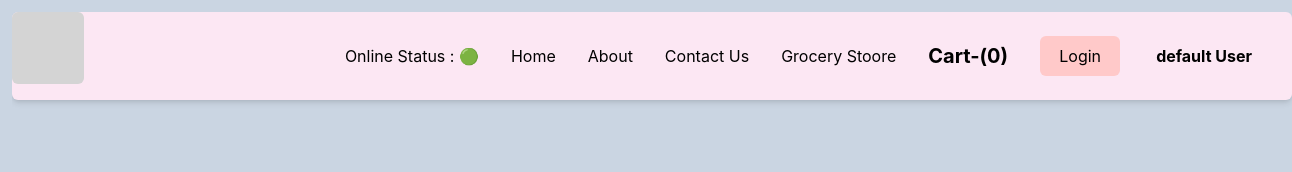
Test case: Should load the  Login button as Logout agter event click
This screenshot has width=1292, height=172.
Click the button "Login": (1080,56) [1040,36,1120,76]
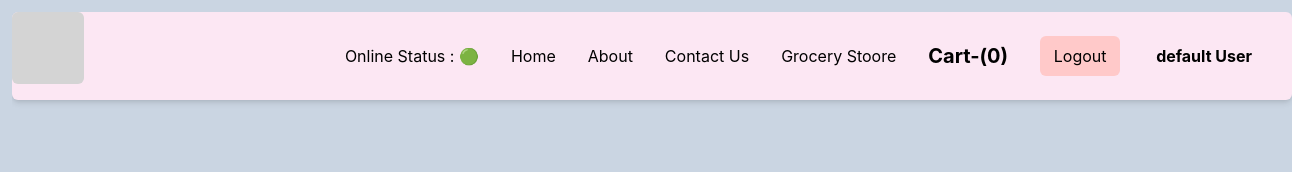
Expected: the button "Logout" is shown, [1040,36,1120,76]
